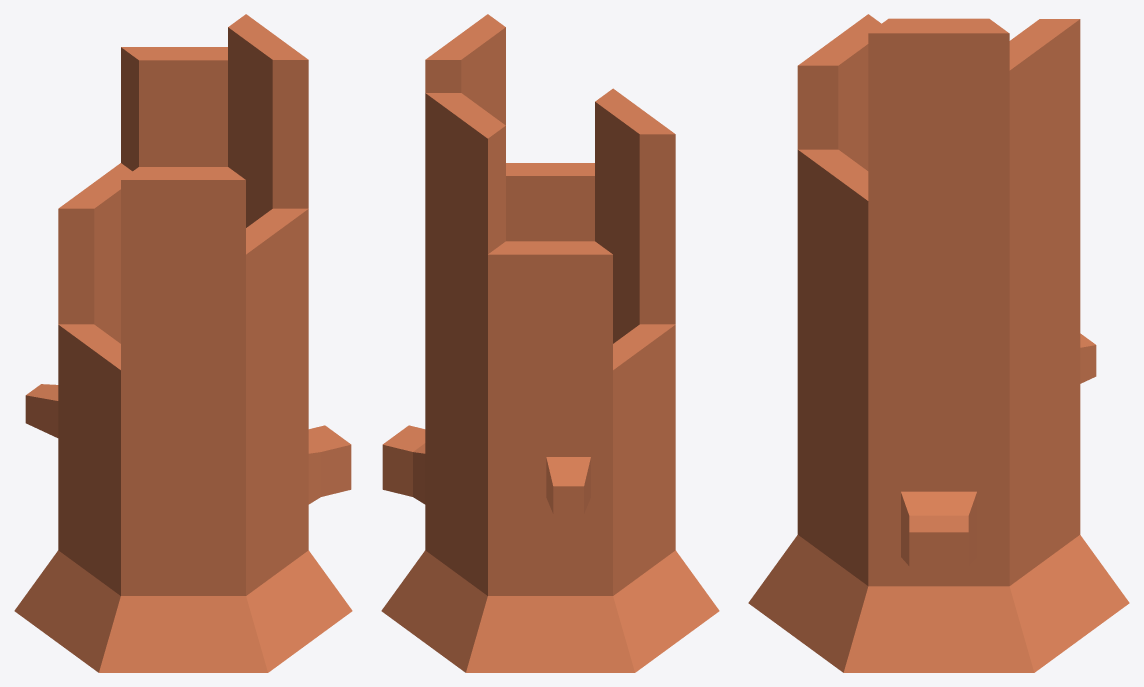
Rendered from stump_oldTall.dae.
The picture shows the model from 3 angles, left to right: view 1: azimuth 30°, elevation 25°; view 2: azimuth 150°, elevation 25°; view 3: azimuth 270°, elevation 25°; orthographic projection. The views are drawn at different scales.
Visible parts, largest first — view 1: stump_oldTall; view 2: stump_oldTall; view 3: stump_oldTall.
Part boxes in pixels (x1=…): stump_oldTall: x1=14, y1=14, x2=352, y2=672; stump_oldTall: x1=381, y1=14, x2=719, y2=672; stump_oldTall: x1=748, y1=14, x2=1129, y2=672.
Size of the model in its own units: 0.3565 by 0.6665 by 0.371.
